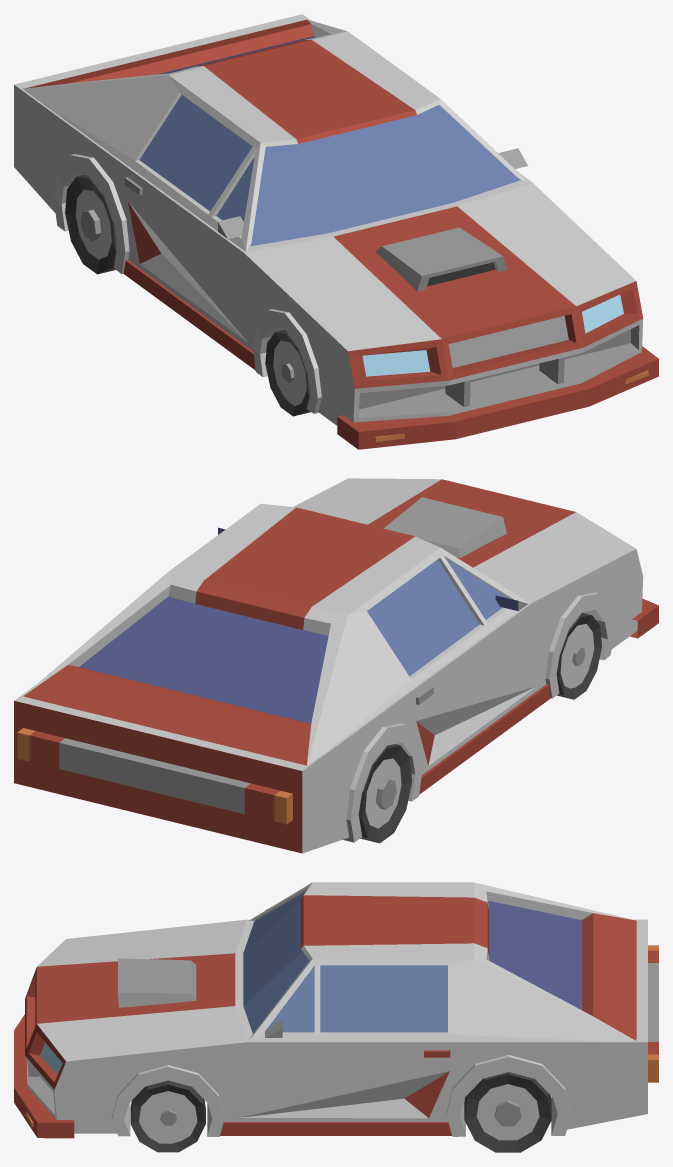
Rendered from transport_sport_002.fbx.
3 renders of one model, top to bottom at view 1: azimuth 30°, elevation 25°; view 2: azimuth 150°, elevation 25°; view 3: azimuth 270°, elevation 25°, orthographic. The views are drawn at different scales.
Visible parts, largest first — view 1: transport_sport_002; view 2: transport_sport_002; view 3: transport_sport_002.
Part boxes in pixels (x1,y1,x2,y2): transport_sport_002: (14,14,658,449); transport_sport_002: (14,478,658,853); transport_sport_002: (14,882,658,1152).
Size of the model in its own units: 181 by 111 by 384.
